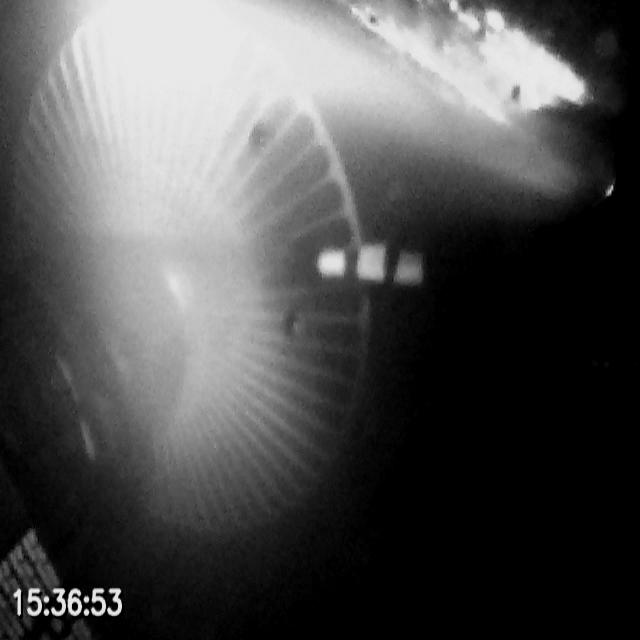white-dots: (316, 240, 426, 288)
